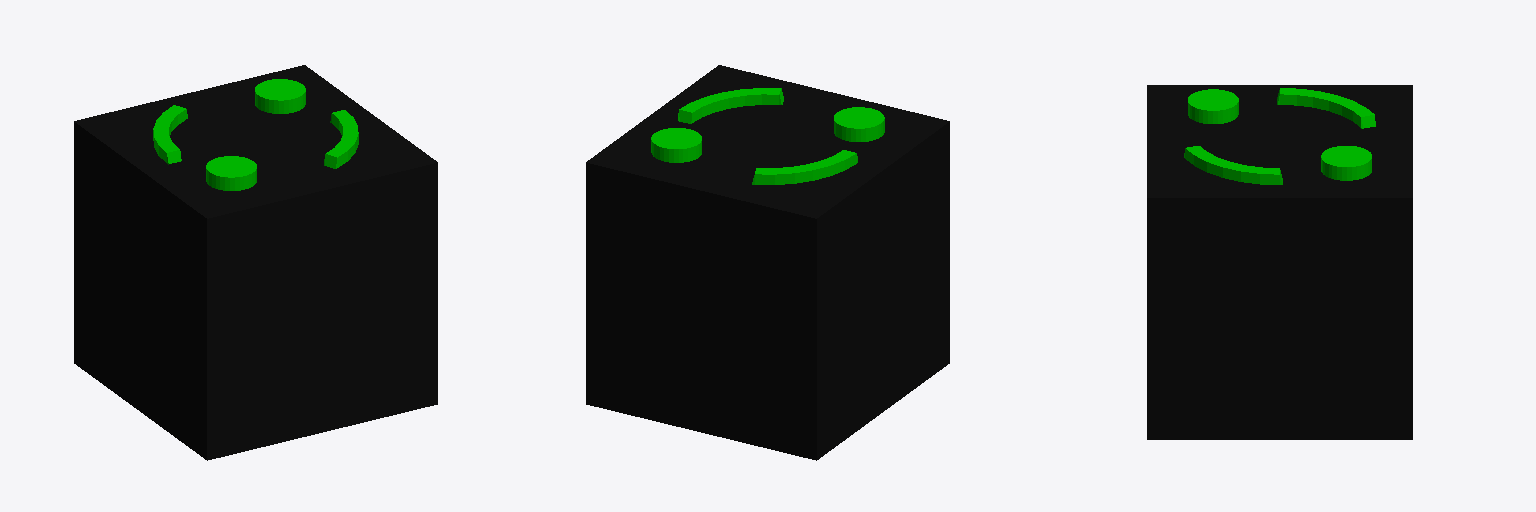
File: Tile4.obj
3 views of the same model, side by side, from view 1: azimuth 30°, elevation 25°; view 2: azimuth 150°, elevation 25°; view 3: azimuth 270°, elevation 25° (orthographic).
Visible parts, largest first — view 1: Cubo.007, Cilindro.008_Cilindro.009, Cilindro.009_Cilindro.010, Cilindro.010_Cilindro.011; view 2: Cubo.007, Cilindro.008_Cilindro.009, Cilindro.010_Cilindro.011, Cilindro.009_Cilindro.010; view 3: Cubo.007, Cilindro.008_Cilindro.009, Cilindro.010_Cilindro.011, Cilindro.009_Cilindro.010.
Boxes of the visible parts, x1=… form: Cubo.007: x1=74, y1=65, x2=437, y2=460; Cilindro.008_Cilindro.009: x1=153, y1=105, x2=358, y2=168; Cilindro.009_Cilindro.010: x1=206, y1=156, x2=256, y2=190; Cilindro.010_Cilindro.011: x1=255, y1=79, x2=305, y2=113; Cubo.007: x1=586, y1=65, x2=949, y2=460; Cilindro.008_Cilindro.009: x1=678, y1=88, x2=857, y2=184; Cilindro.010_Cilindro.011: x1=651, y1=128, x2=701, y2=162; Cilindro.009_Cilindro.010: x1=834, y1=107, x2=884, y2=141; Cubo.007: x1=1147, y1=85, x2=1412, y2=439; Cilindro.008_Cilindro.009: x1=1184, y1=88, x2=1375, y2=184; Cilindro.010_Cilindro.011: x1=1321, y1=146, x2=1371, y2=180; Cilindro.009_Cilindro.010: x1=1188, y1=89, x2=1238, y2=123.
Bounding box in the file's own units: 2 × 2.11 × 2.